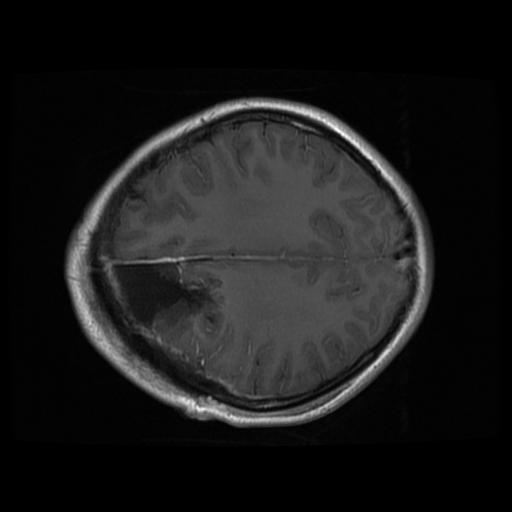glioma: (111, 260, 225, 360)
